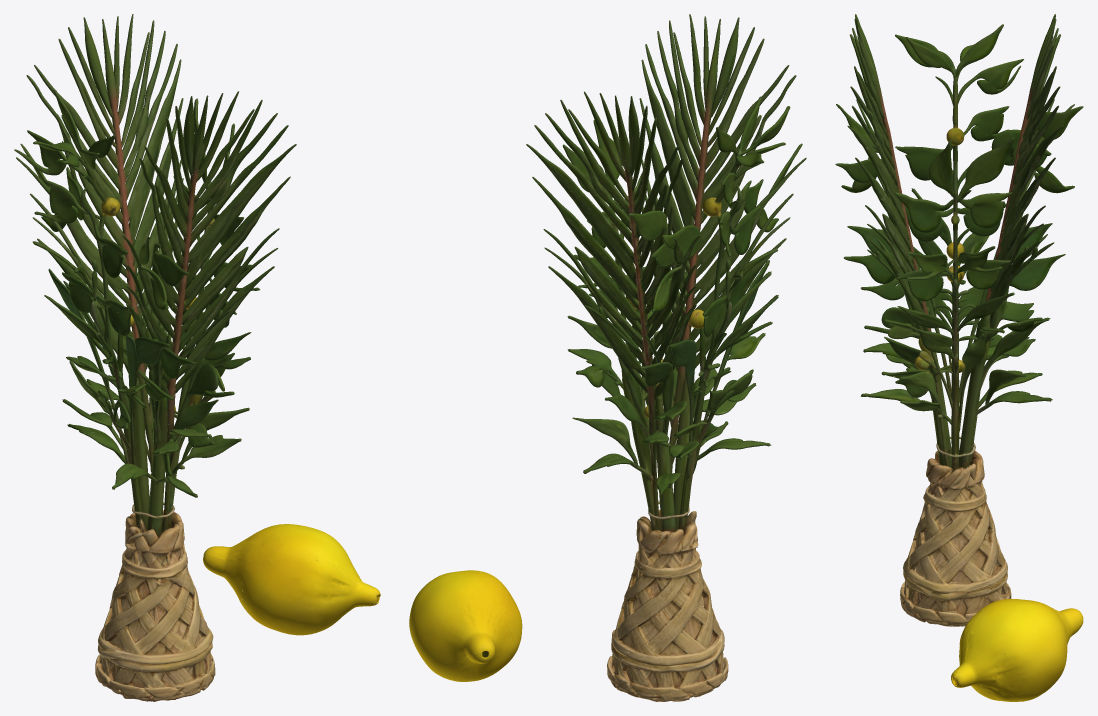
The model's file is lulav-etrog.glb.
3 renders of one model, left to right at view 1: azimuth 30°, elevation 25°; view 2: azimuth 150°, elevation 25°; view 3: azimuth 270°, elevation 25°, orthographic. The views are drawn at different scales.
Parts seen in each view (by area): view 1: tripo_node_e2403d20-bbcd-4792-b00e-4109945054fb; view 2: tripo_node_e2403d20-bbcd-4792-b00e-4109945054fb; view 3: tripo_node_e2403d20-bbcd-4792-b00e-4109945054fb.
Part boxes in pixels (x1=…): tripo_node_e2403d20-bbcd-4792-b00e-4109945054fb: x1=14, y1=14, x2=380, y2=701; tripo_node_e2403d20-bbcd-4792-b00e-4109945054fb: x1=409, y1=14, x2=806, y2=701; tripo_node_e2403d20-bbcd-4792-b00e-4109945054fb: x1=835, y1=14, x2=1083, y2=701.
Bounding box in the file's own units: 0.5392 × 0.9815 × 0.3714.
Materials: 1 (1 with a texture image).
